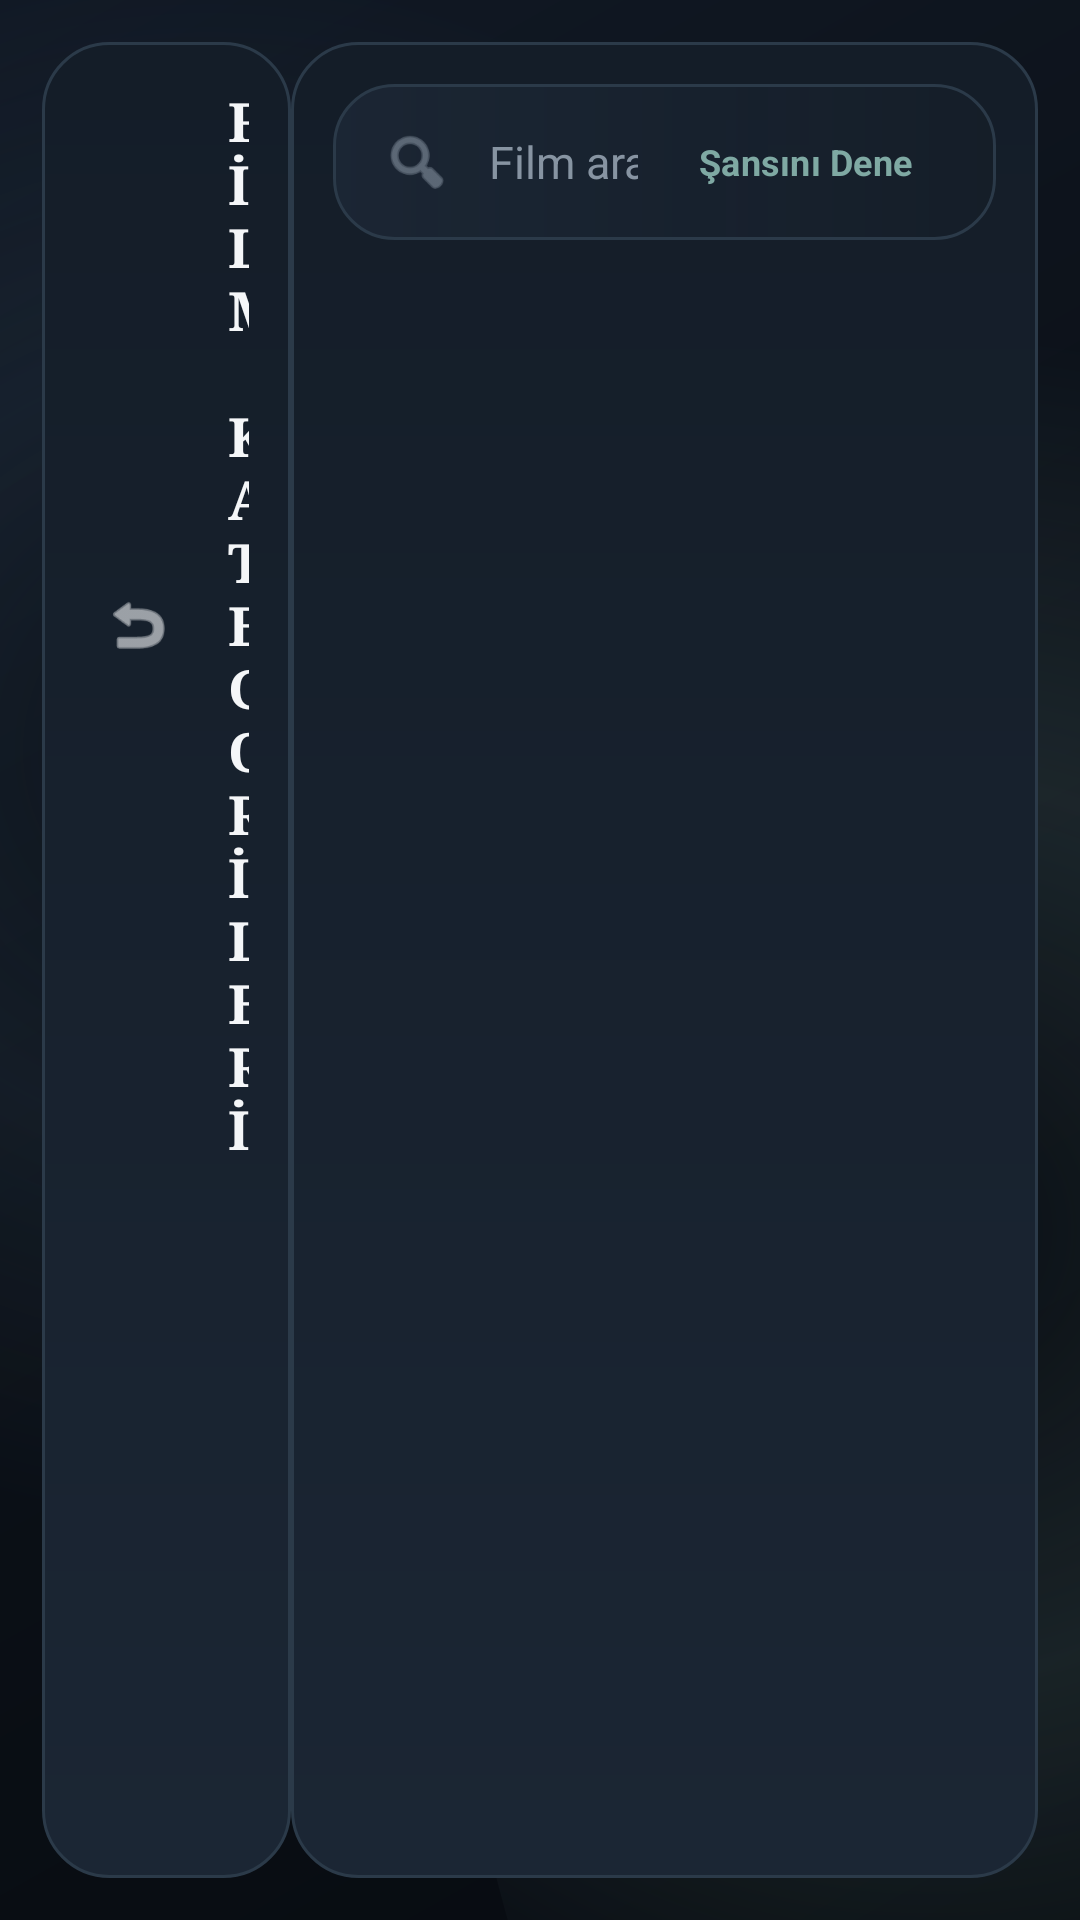

Named icons in this screenshot (1080x1920) and their bounding boxes, Rect(x1, y1, x2, y2):
revert: Rect(113, 602, 165, 649)
search: Rect(391, 136, 443, 189)
